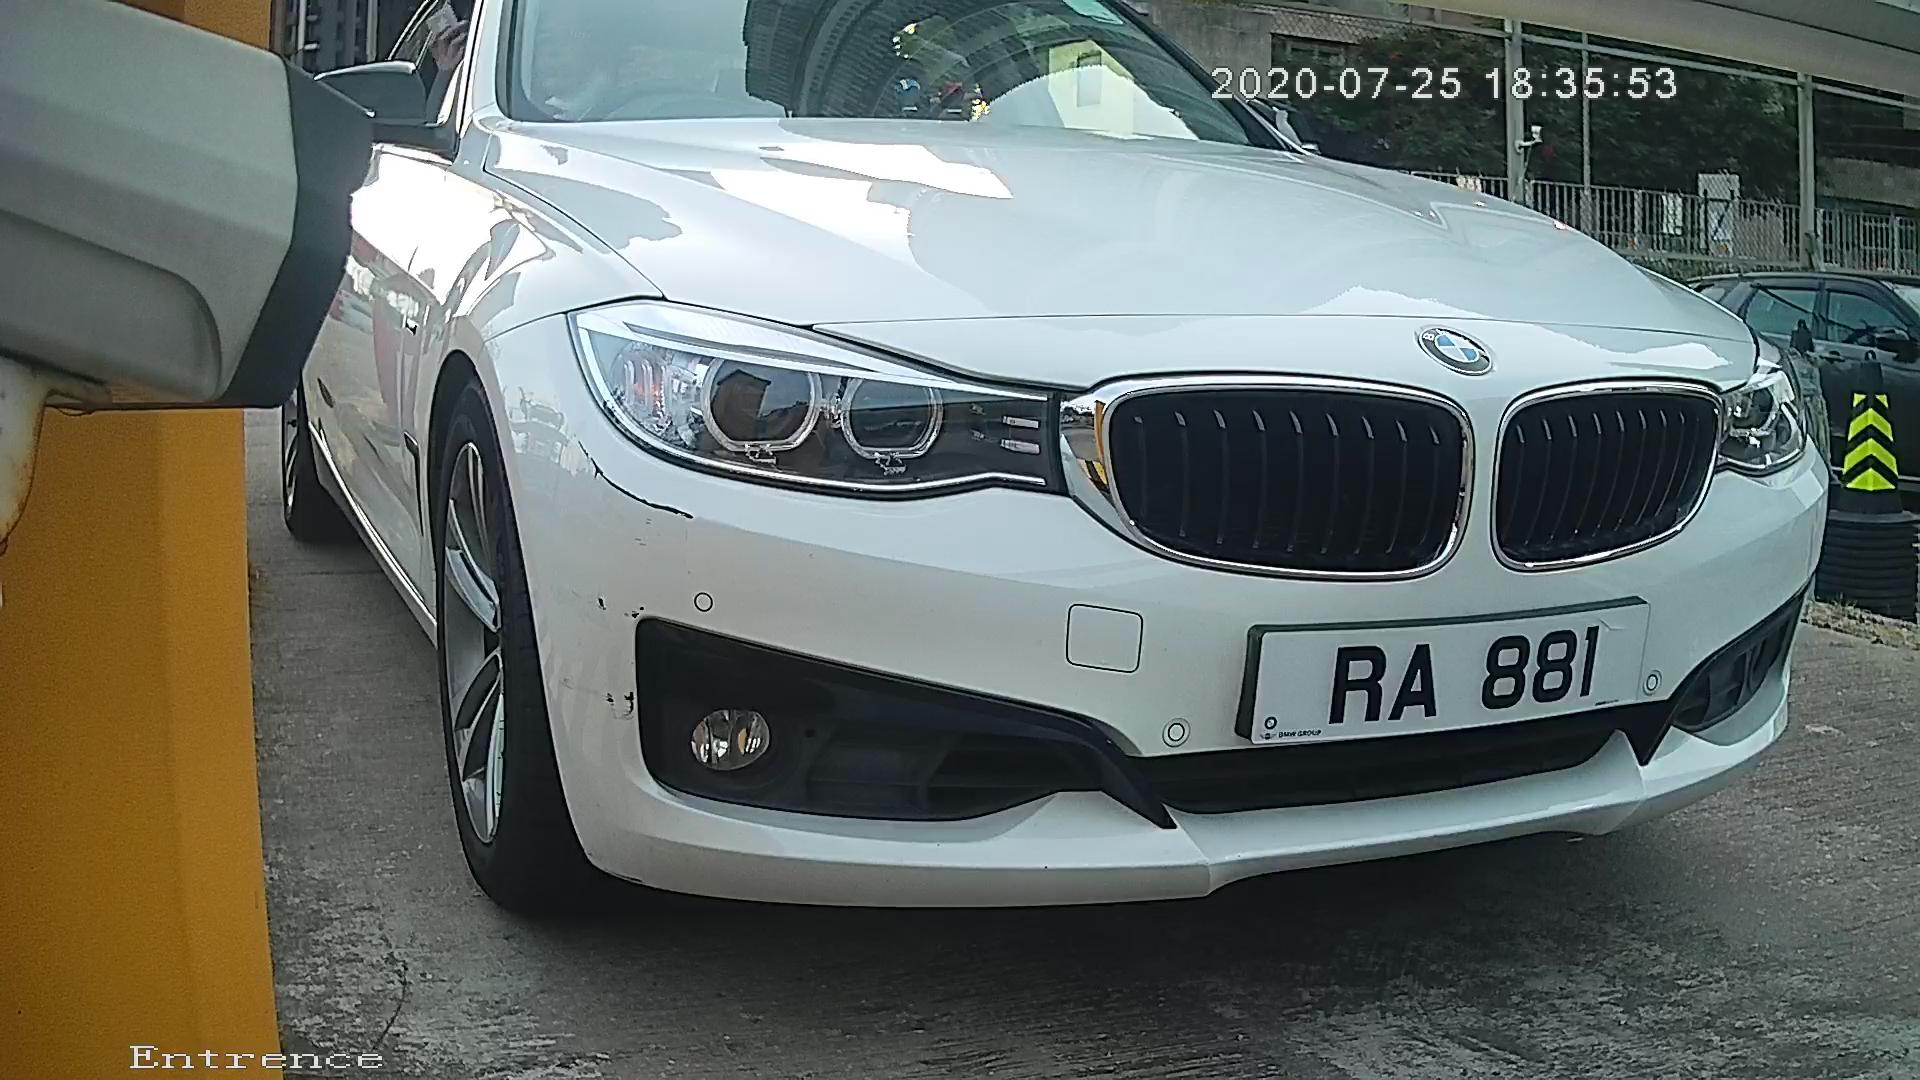License Plate: (1192, 594, 1689, 757)
